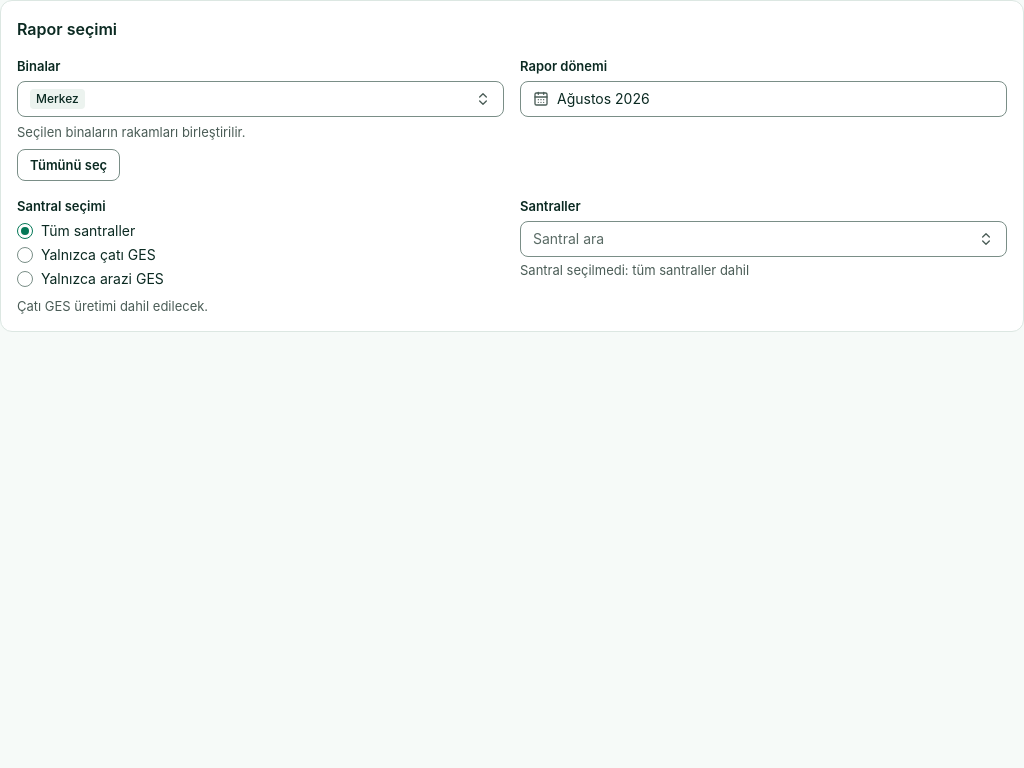
ReportSelectionView › lists only utility-scale plants and drops the rooftop note for the grid selection
Click the radio button named "Yalnızca arazi GES" next to "Yalnızca arazi GES": (25, 279) [17, 271, 33, 287]
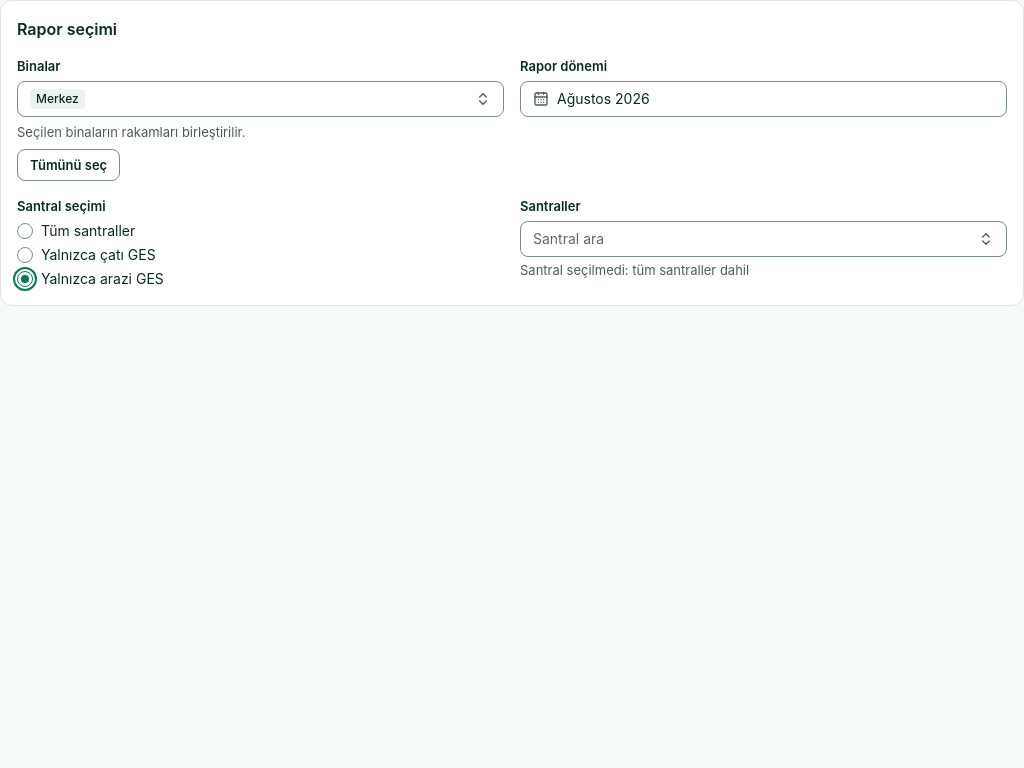
Result: the text "Çatı GES üretimi dahil edilecek." is gone
Click the dropdown named "Santraller": (569, 238) [520, 221, 1007, 257]
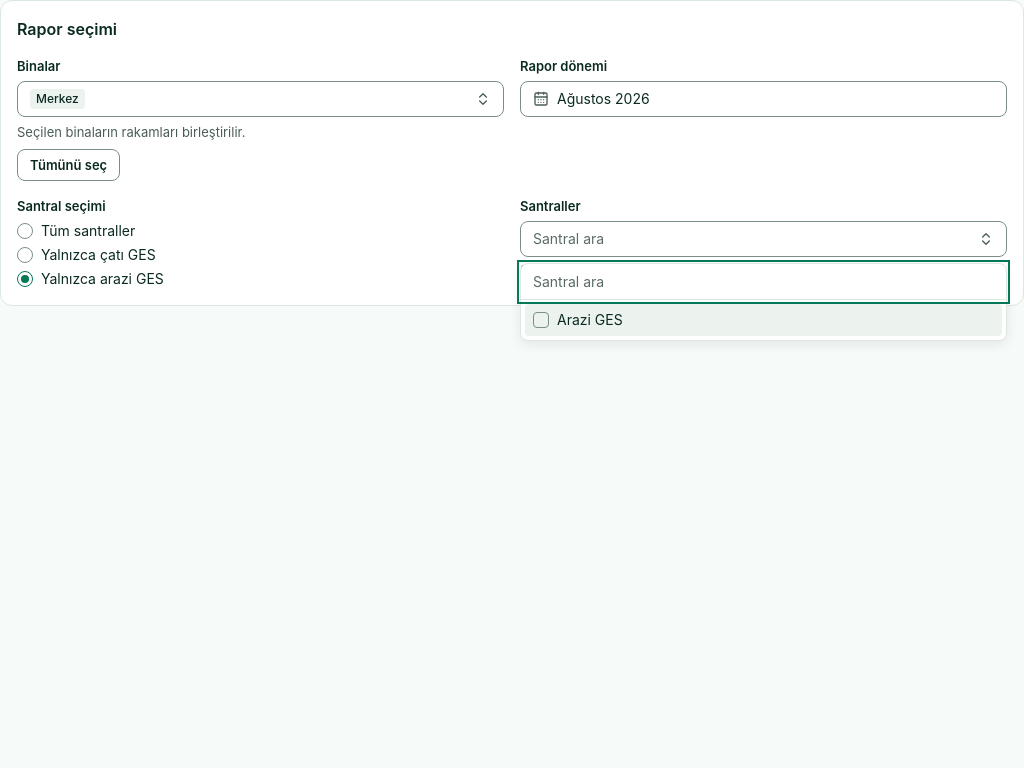
Result: the option "Arazi GES" is shown at [525, 304, 1002, 336]
